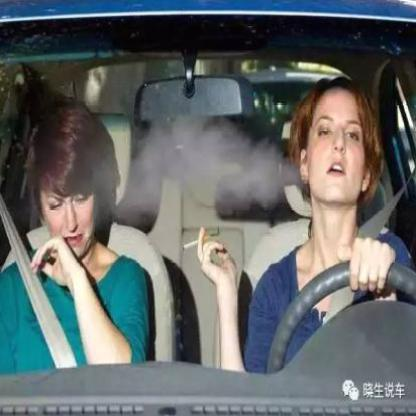cigarette: (180, 235, 210, 253)
person: (0, 101, 139, 382), (262, 86, 393, 376)
smoke: (144, 119, 292, 210)
